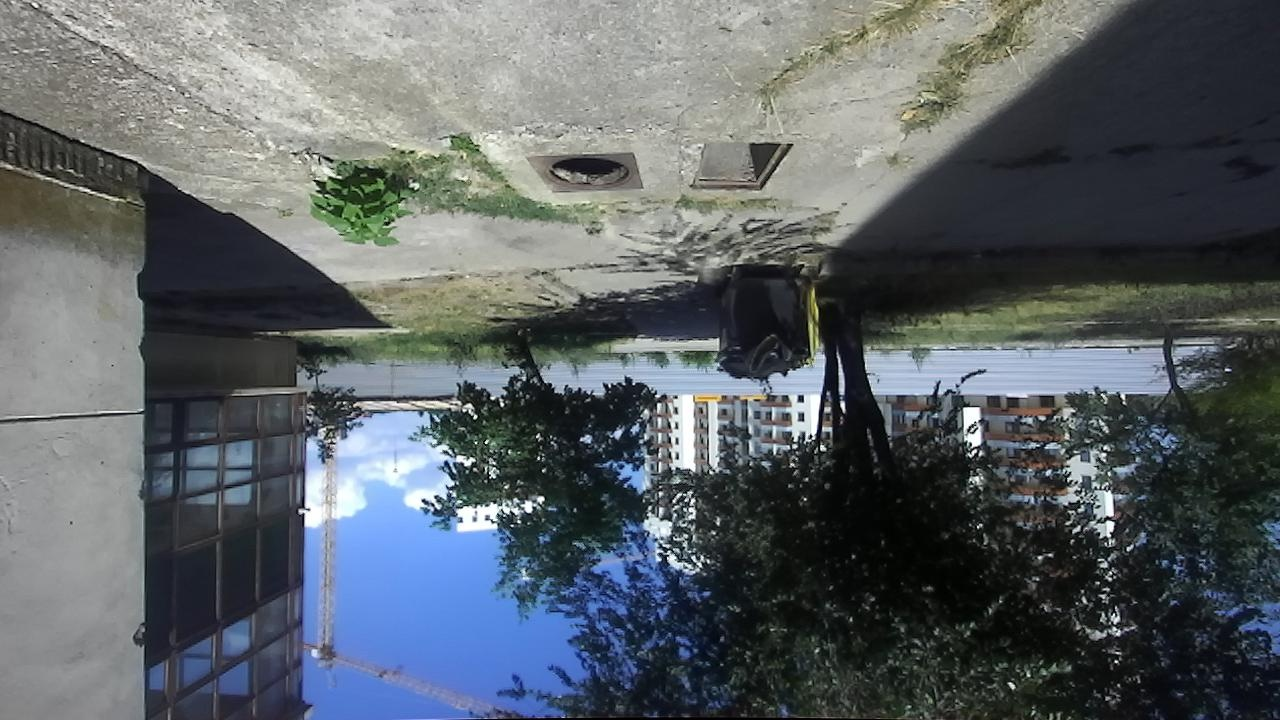drain: (685, 136, 798, 195), (542, 152, 635, 192)
